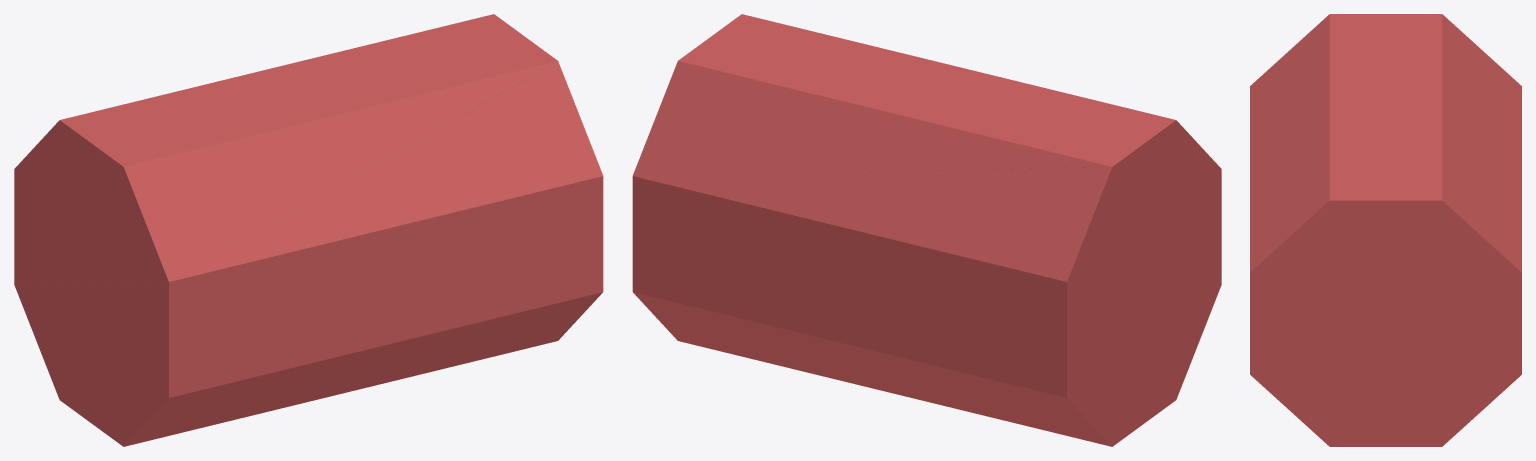
The model's file is donguru.glb.
3 renders of one model, left to right at view 1: azimuth 30°, elevation 25°; view 2: azimuth 150°, elevation 25°; view 3: azimuth 270°, elevation 25°, orthographic. The views are drawn at different scales.
Parts seen in each view (by area): view 1: donguru_col; view 2: donguru_col; view 3: donguru_col.
Boxes of the visible parts, x1=… form: donguru_col: x1=14, y1=14, x2=603, y2=446; donguru_col: x1=632, y1=14, x2=1221, y2=446; donguru_col: x1=1250, y1=14, x2=1521, y2=446.
Size of the model in its own units: 0.6003 by 0.3696 by 0.3697.
